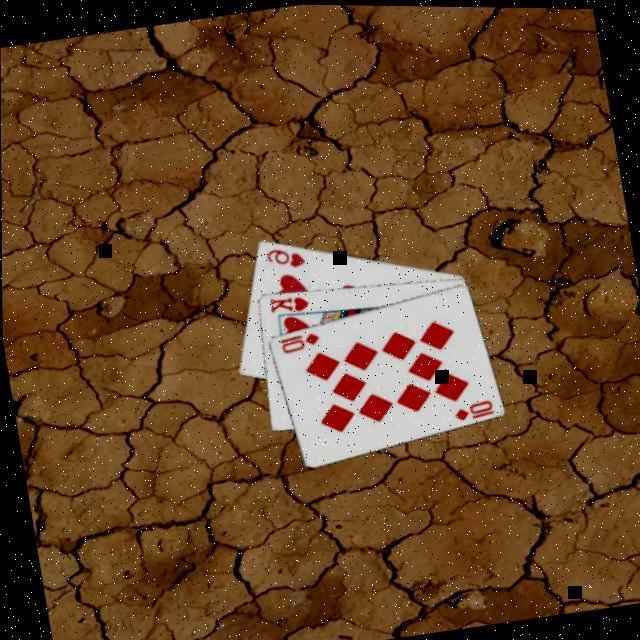10D: (446, 394, 496, 426), (274, 328, 321, 358)
6H: (260, 242, 306, 274)
KH: (263, 290, 310, 318)
